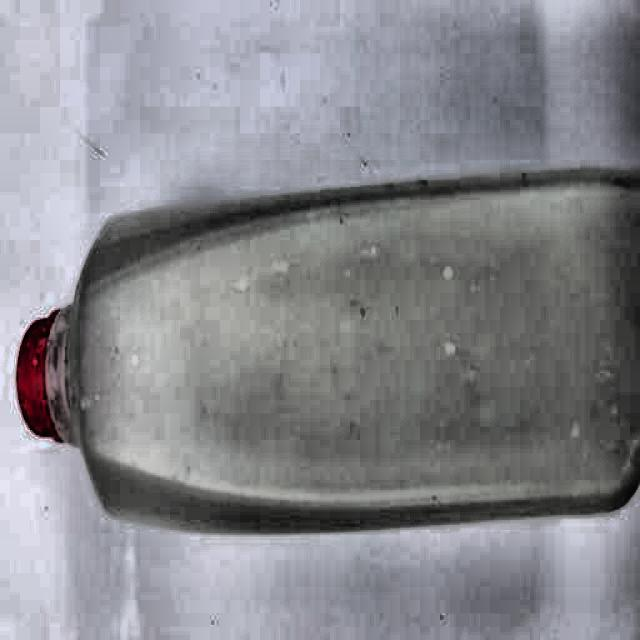plastic: (16, 186, 640, 539)
